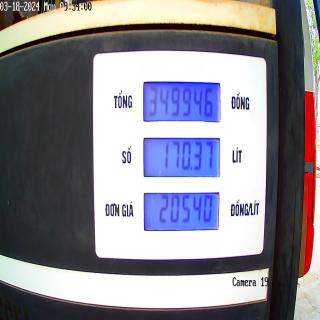screen: (141, 77, 222, 235)
